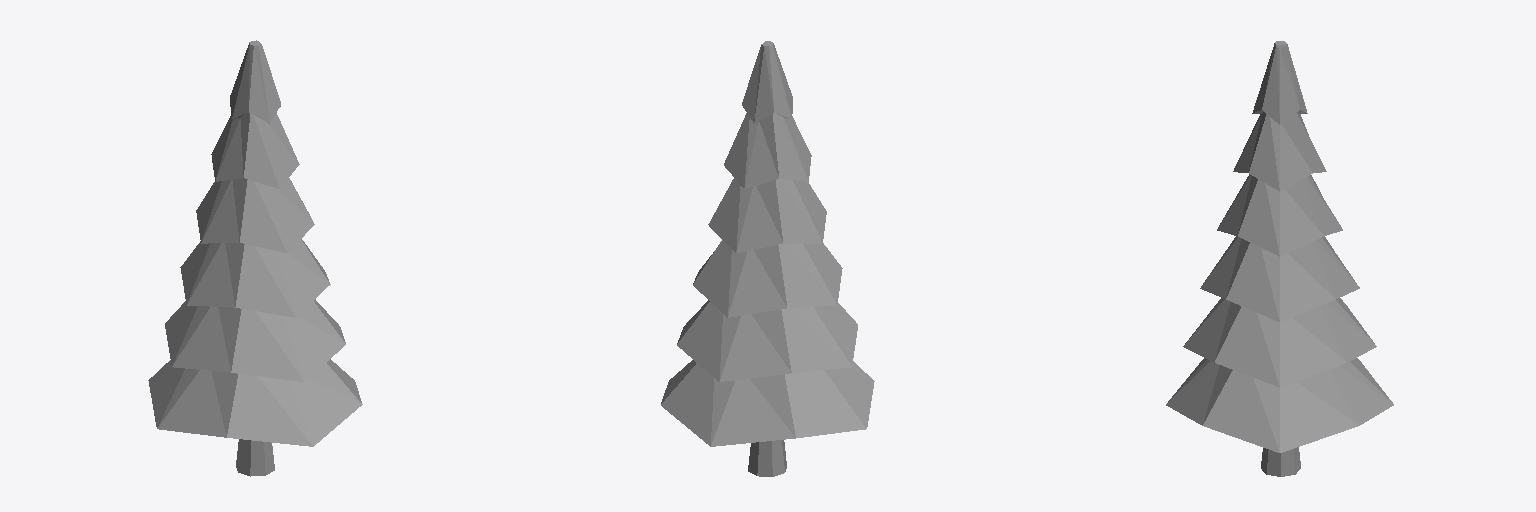
The model's file is tree.obj.
3 renders of one model, left to right at view 1: azimuth 30°, elevation 25°; view 2: azimuth 150°, elevation 25°; view 3: azimuth 270°, elevation 25°, orthographic.
Parts seen in each view (by area): view 1: Cylinder_Cylinder.001, Cylinder.001_Cylinder.002; view 2: Cylinder_Cylinder.001, Cylinder.001_Cylinder.002; view 3: Cylinder_Cylinder.001, Cylinder.001_Cylinder.002.
Boxes of the visible parts, x1=… form: Cylinder_Cylinder.001: x1=148, y1=40, x2=362, y2=446; Cylinder.001_Cylinder.002: x1=236, y1=439, x2=274, y2=476; Cylinder_Cylinder.001: x1=661, y1=41, x2=874, y2=446; Cylinder.001_Cylinder.002: x1=748, y1=440, x2=786, y2=476; Cylinder_Cylinder.001: x1=1166, y1=41, x2=1393, y2=452; Cylinder.001_Cylinder.002: x1=1261, y1=447, x2=1300, y2=476.
Size of the model in its own units: 3.68 by 7.54 by 3.68.